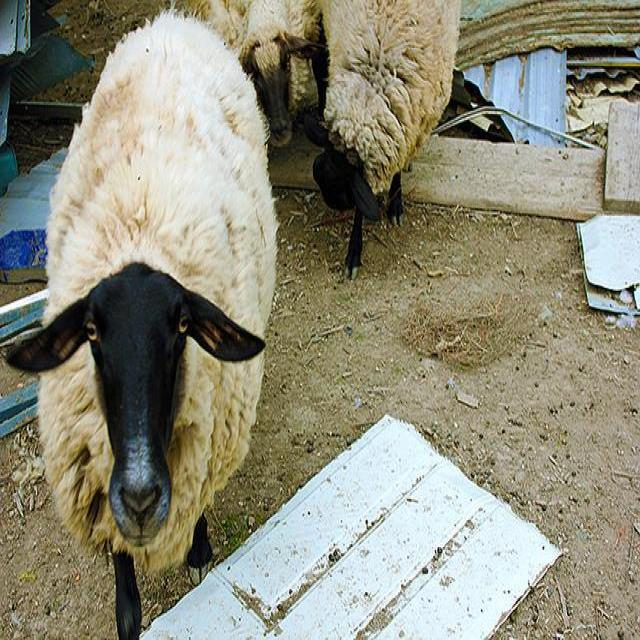Sheep: (2, 12, 281, 618), (303, 1, 462, 282), (168, 0, 330, 144)
